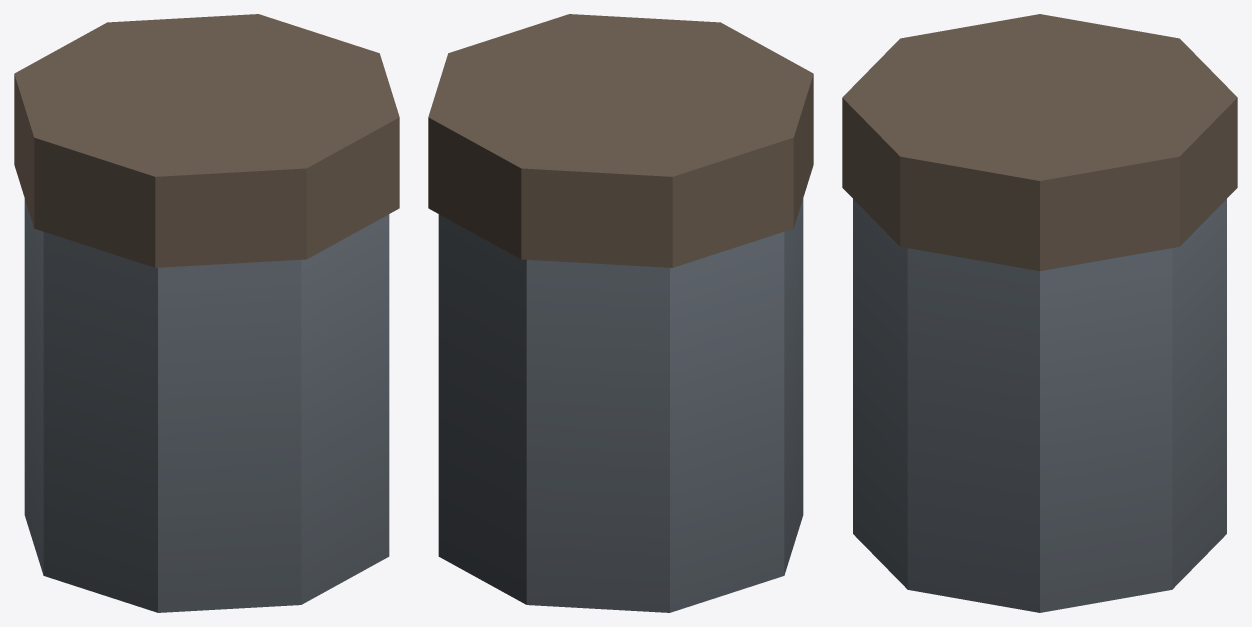
The model's file is KitchenProps_10.fbx.
The picture shows the model from 3 angles, left to right: view 1: azimuth 30°, elevation 25°; view 2: azimuth 150°, elevation 25°; view 3: azimuth 270°, elevation 25°; orthographic projection.
Parts seen in each view (by area): view 1: KitchenProps_10; view 2: KitchenProps_10; view 3: KitchenProps_10.
Part boxes in pixels (x1,y1,x2,y2): KitchenProps_10: (14,14,399,612); KitchenProps_10: (428,14,813,612); KitchenProps_10: (842,14,1237,612).
Size of the model in its own units: 12.68 by 15.45 by 12.68.
